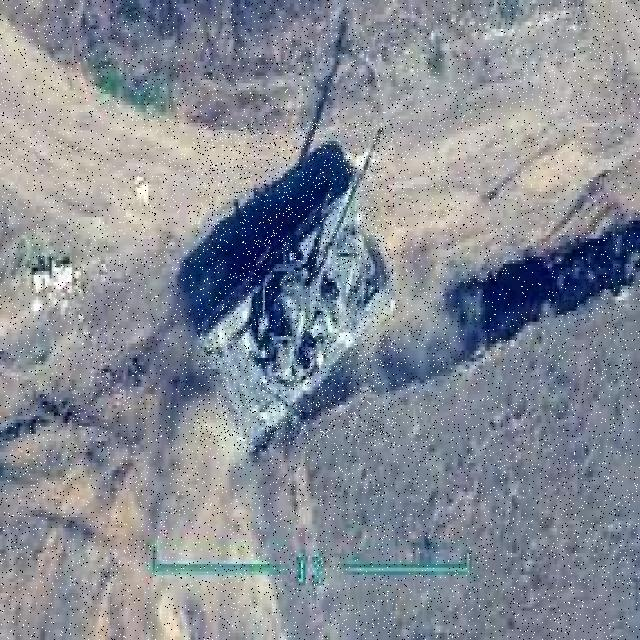MIL_MBT: (197, 123, 396, 448)
